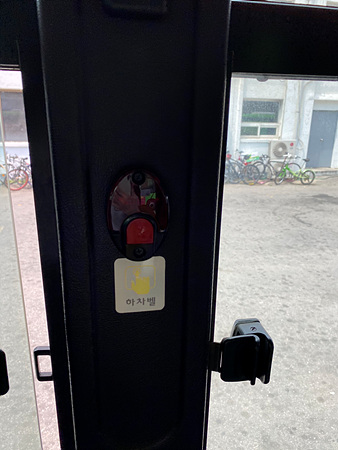bell: (109, 168, 169, 258)
